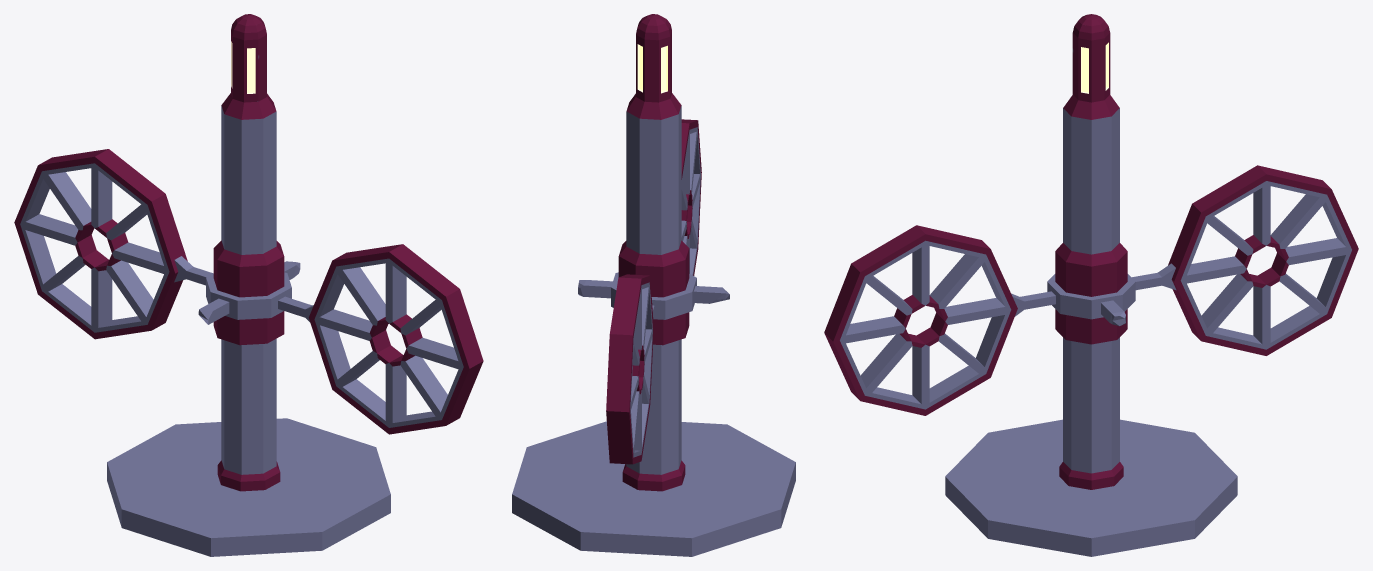
File: Molino.fbx
3 renders of one model, left to right at view 1: azimuth 30°, elevation 25°; view 2: azimuth 150°, elevation 25°; view 3: azimuth 270°, elevation 25°, orthographic.
Visible parts, largest first — view 1: Molino, Aspas, Molino2; view 2: Molino, Aspas, Molino2, Luces; view 3: Molino, Aspas, Molino2.
Boxes of the visible parts, bbox=[...] form: Molino: bbox=[107, 14, 390, 556]; Aspas: bbox=[14, 149, 483, 434]; Molino2: bbox=[174, 256, 313, 324]; Molino: bbox=[512, 14, 795, 556]; Aspas: bbox=[606, 119, 701, 464]; Molino2: bbox=[578, 272, 729, 319]; Luces: bbox=[637, 44, 667, 93]; Molino: bbox=[945, 14, 1237, 556]; Aspas: bbox=[824, 165, 1358, 415]; Molino2: bbox=[1011, 263, 1176, 326].
Bounding box in the file's own units: 2873 × 5193 × 5249.
